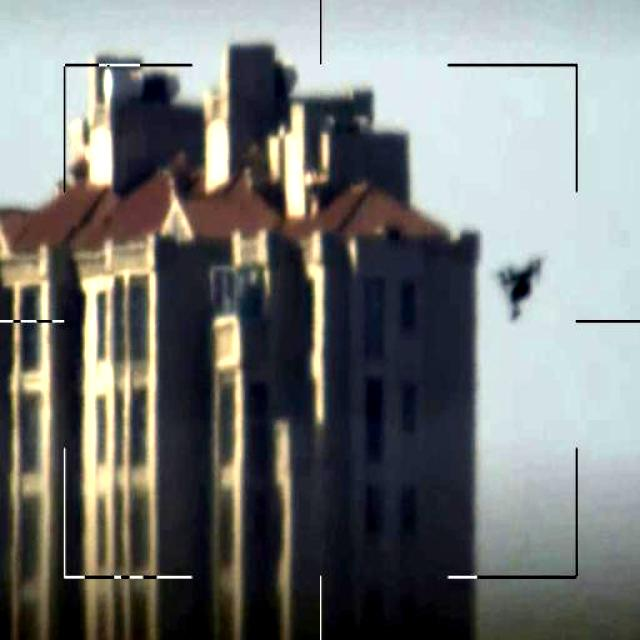bird: (492, 258, 546, 329)
